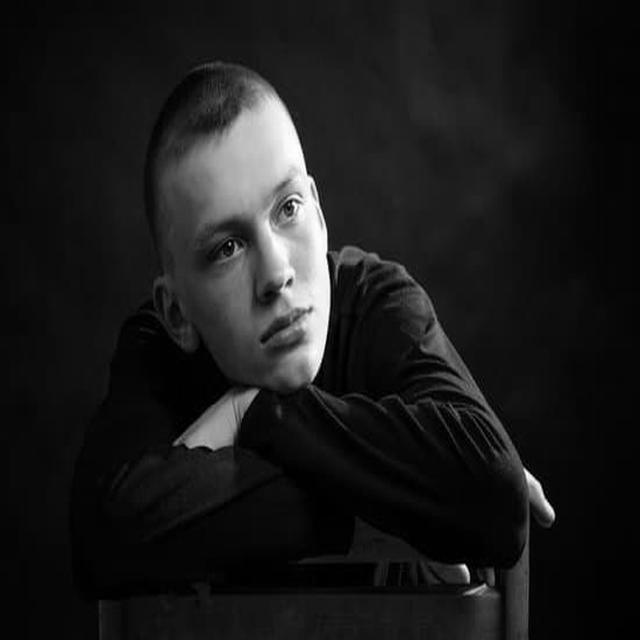Sadness: (190, 116, 328, 388)
